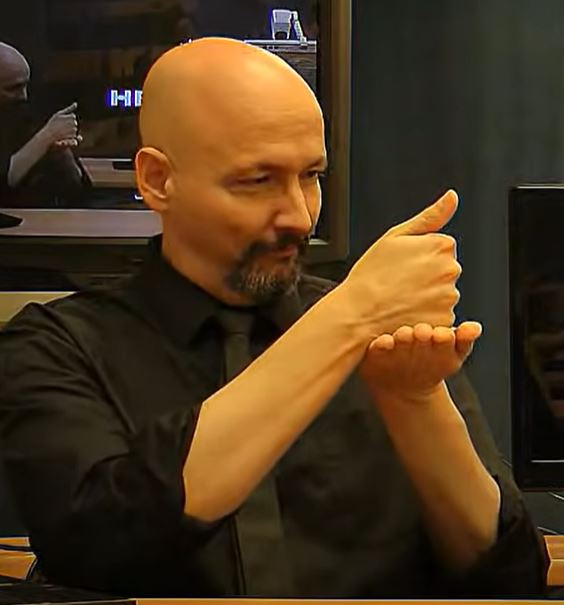Help: (299, 169, 530, 423)
